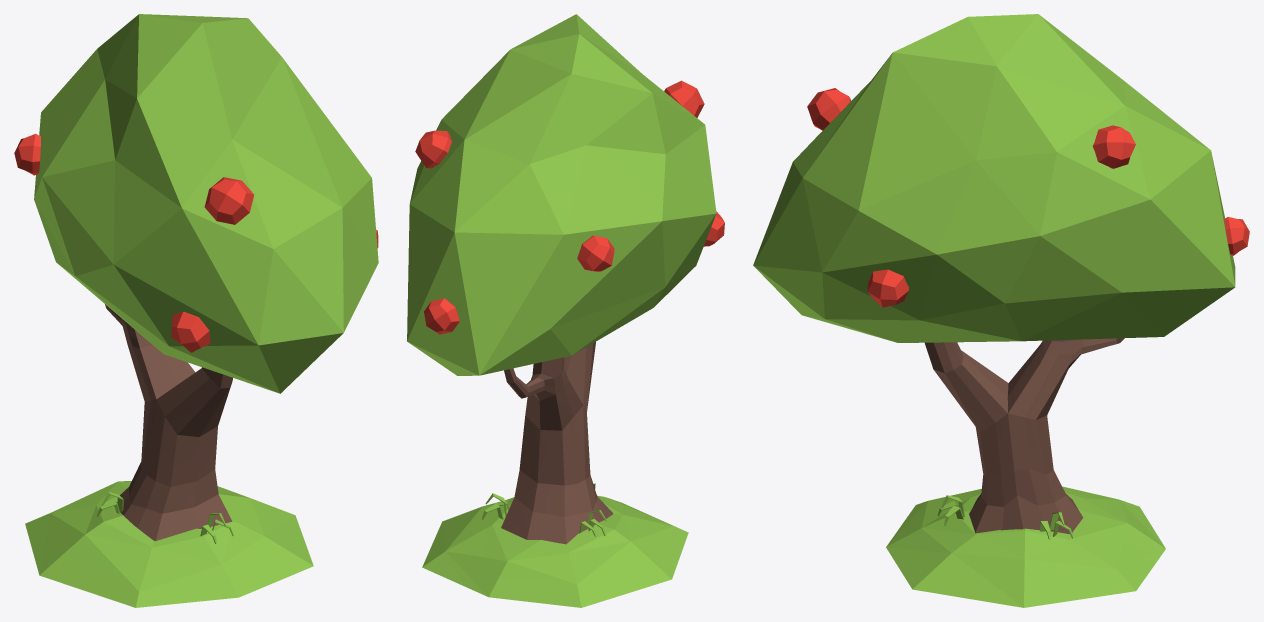
File: apple_tree_02.obj
3 renders of one model, left to right at view 1: azimuth 30°, elevation 25°; view 2: azimuth 150°, elevation 25°; view 3: azimuth 270°, elevation 25°, orthographic. The views are drawn at different scales.
Parts seen in each view (by area): view 1: apple_tree_01_Cube.001; view 2: apple_tree_01_Cube.001; view 3: apple_tree_01_Cube.001.
Part boxes in pixels (x1,y1,x2,y2): apple_tree_01_Cube.001: (14, 14, 378, 607); apple_tree_01_Cube.001: (407, 14, 724, 607); apple_tree_01_Cube.001: (753, 14, 1249, 607).
Size of the model in its own units: 105 by 199 by 168.
